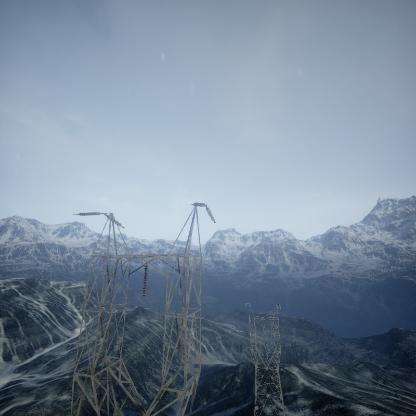tower: (70, 201, 205, 412), (245, 302, 286, 408)
